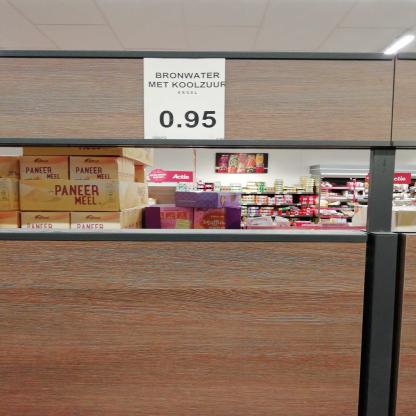prtg: (144, 58, 227, 142)
